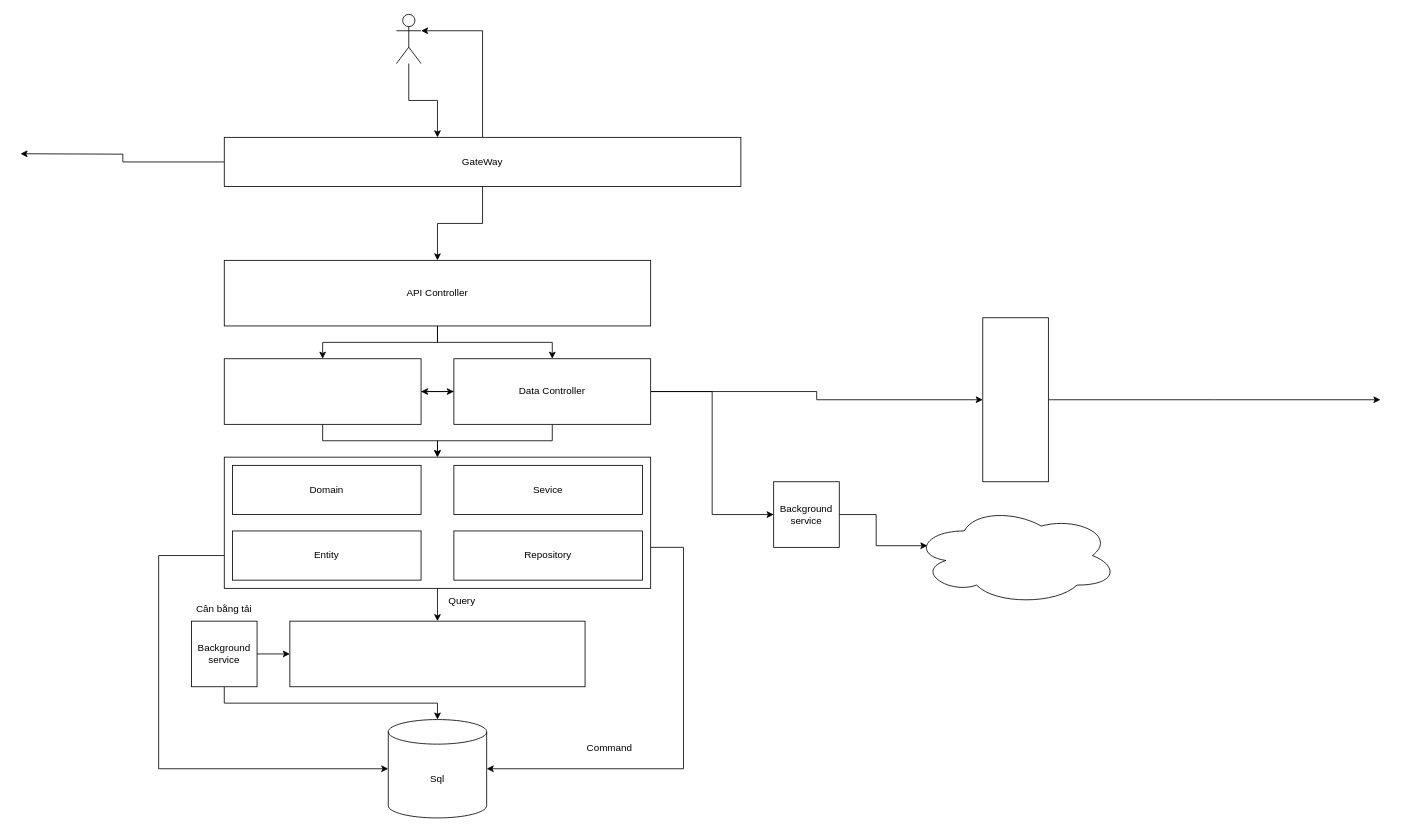
Some shapes in this 1401 by 832 pixel diagram are drawn without their labels. Each missing label, with the box of its shape:
Actor: (396, 14, 421, 64)
Application API: (223, 358, 421, 424)
BUS: (982, 317, 1048, 482)
Cache: (289, 620, 585, 687)
SMS PAYMENT EMAIL ........: (912, 506, 1118, 605)
